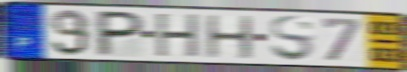7: (320, 16, 363, 63)
9: (49, 8, 92, 58)
H: (204, 14, 256, 61), (155, 12, 202, 60)
P: (94, 9, 148, 58)
S: (267, 14, 316, 64)
